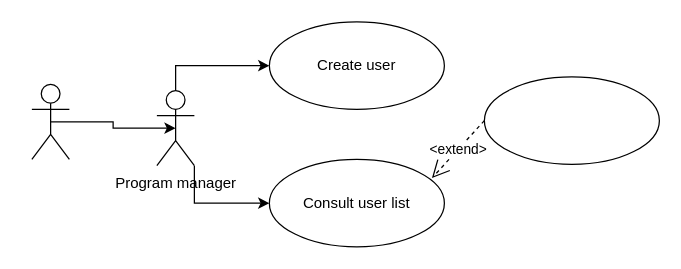
This 681x269 diagram has some shape labels left out. The box of each missing label's shape, as (x1, y1, x2, y2) in pixels:
Consult user detail: (483, 76, 659, 164)
Manager: (31, 83, 69, 159)
